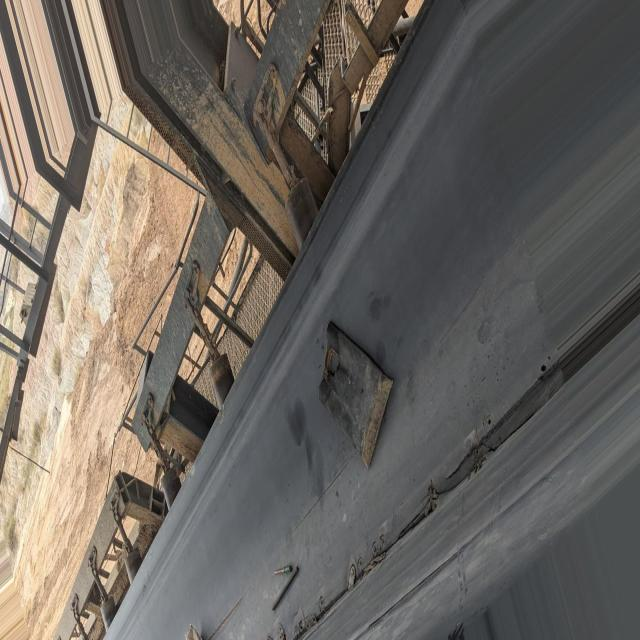Other Objects: (320, 314, 394, 470), (261, 555, 299, 620), (176, 617, 206, 640)
Roller: (284, 174, 323, 236), (157, 462, 183, 510), (209, 354, 233, 404), (122, 546, 147, 582), (101, 595, 117, 627)
Tear: (277, 312, 618, 640)
